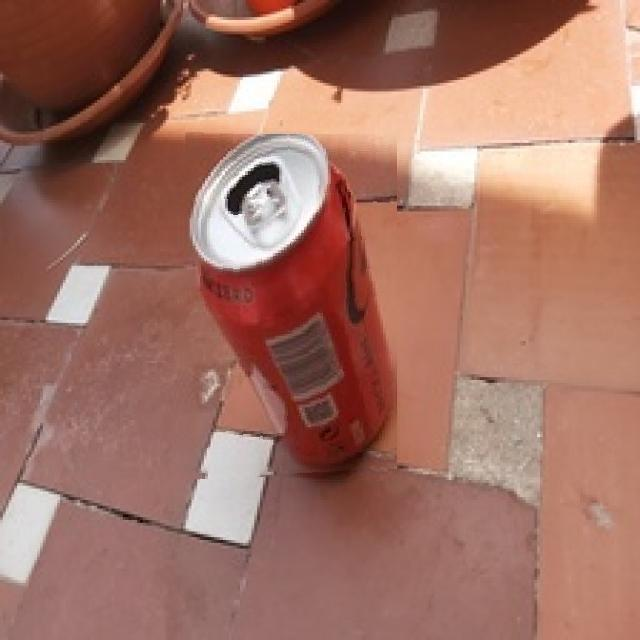recyclable: (177, 134, 397, 480)
